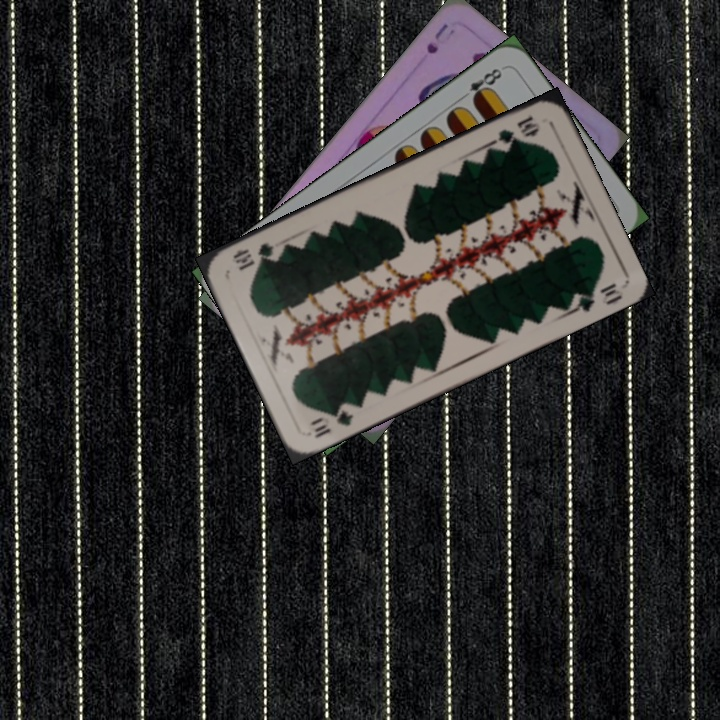E8: (455, 64, 505, 106)
G10: (488, 111, 543, 147), (305, 403, 356, 441)
SU: (422, 19, 451, 57)
